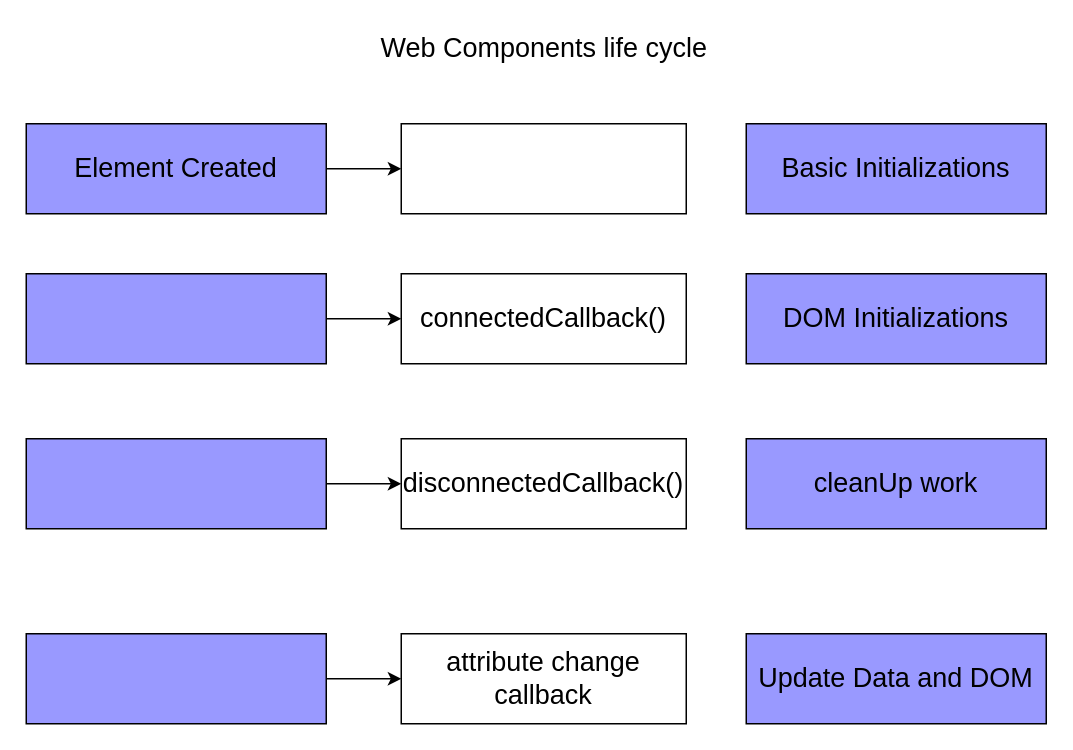
Some shapes in this 1073 by 750 pixel diagram are drawn without their labels. The box of each missing label's shape, as (x1, y1, x2, y2) in pixels:
Constructor(): (400, 122, 686, 214)
Element attached to DOM: (25, 272, 326, 364)
Element detached to DOM: (25, 437, 326, 529)
Observed Attribute update: (25, 632, 326, 724)
